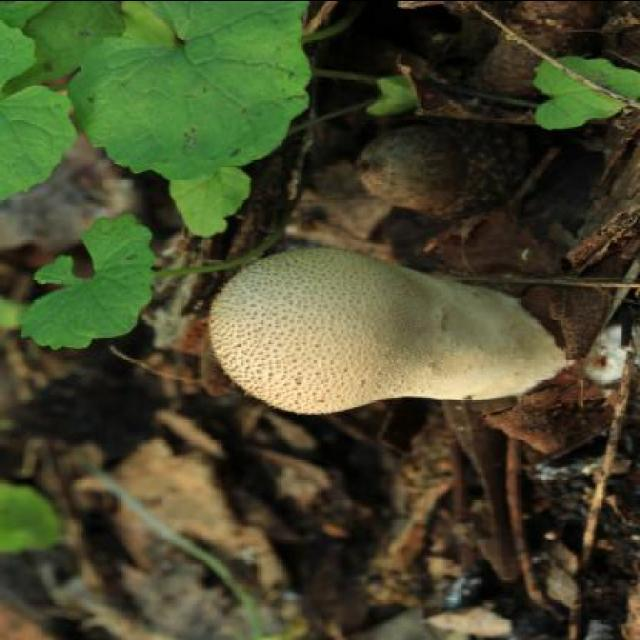Mushroom: (192, 240, 606, 428)
